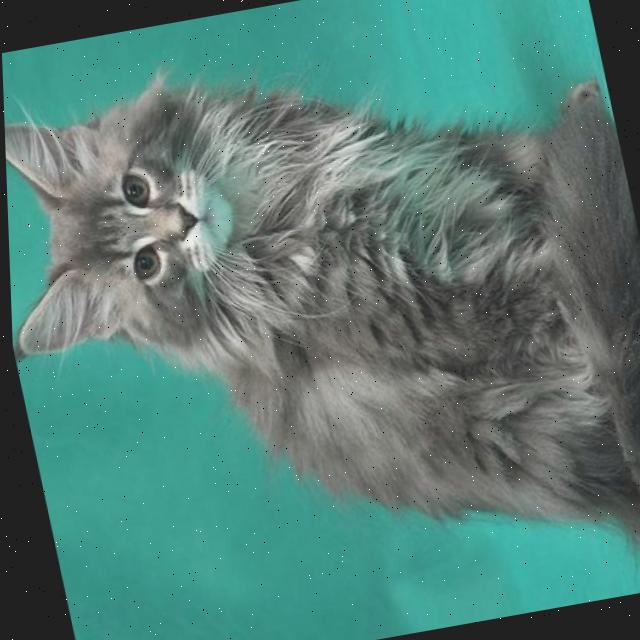Maine Coon: (0, 6, 640, 640)
